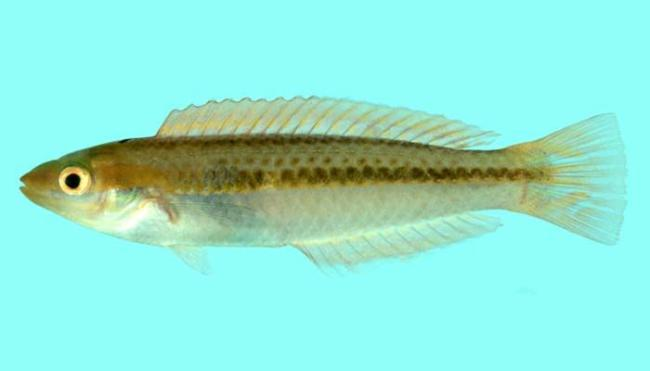fish: (18, 95, 629, 278)
